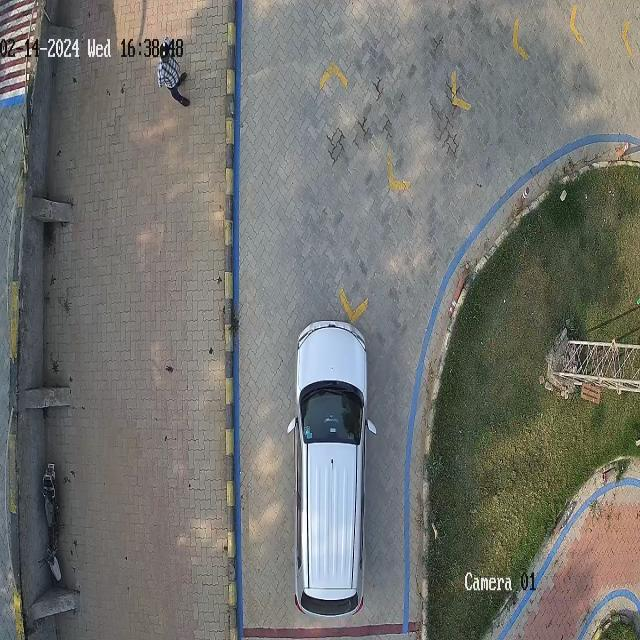car: (288, 322, 376, 619)
